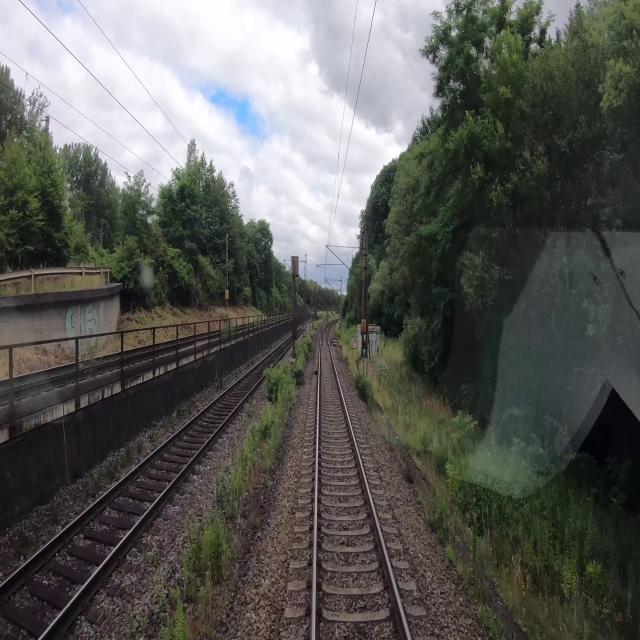Plant: (152, 316, 324, 639)
